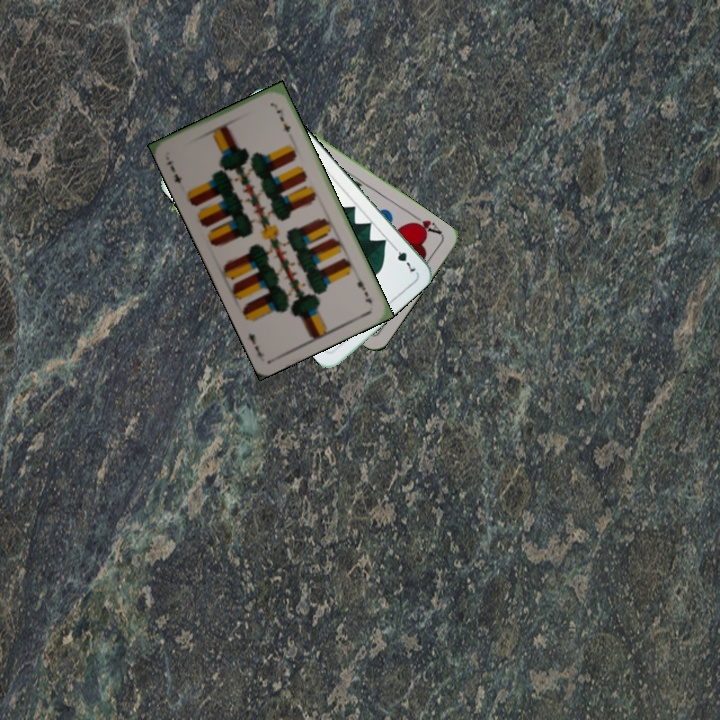E7: (352, 270, 375, 306), (162, 157, 185, 186)
G7: (388, 241, 419, 276)
HA: (405, 211, 445, 238)
